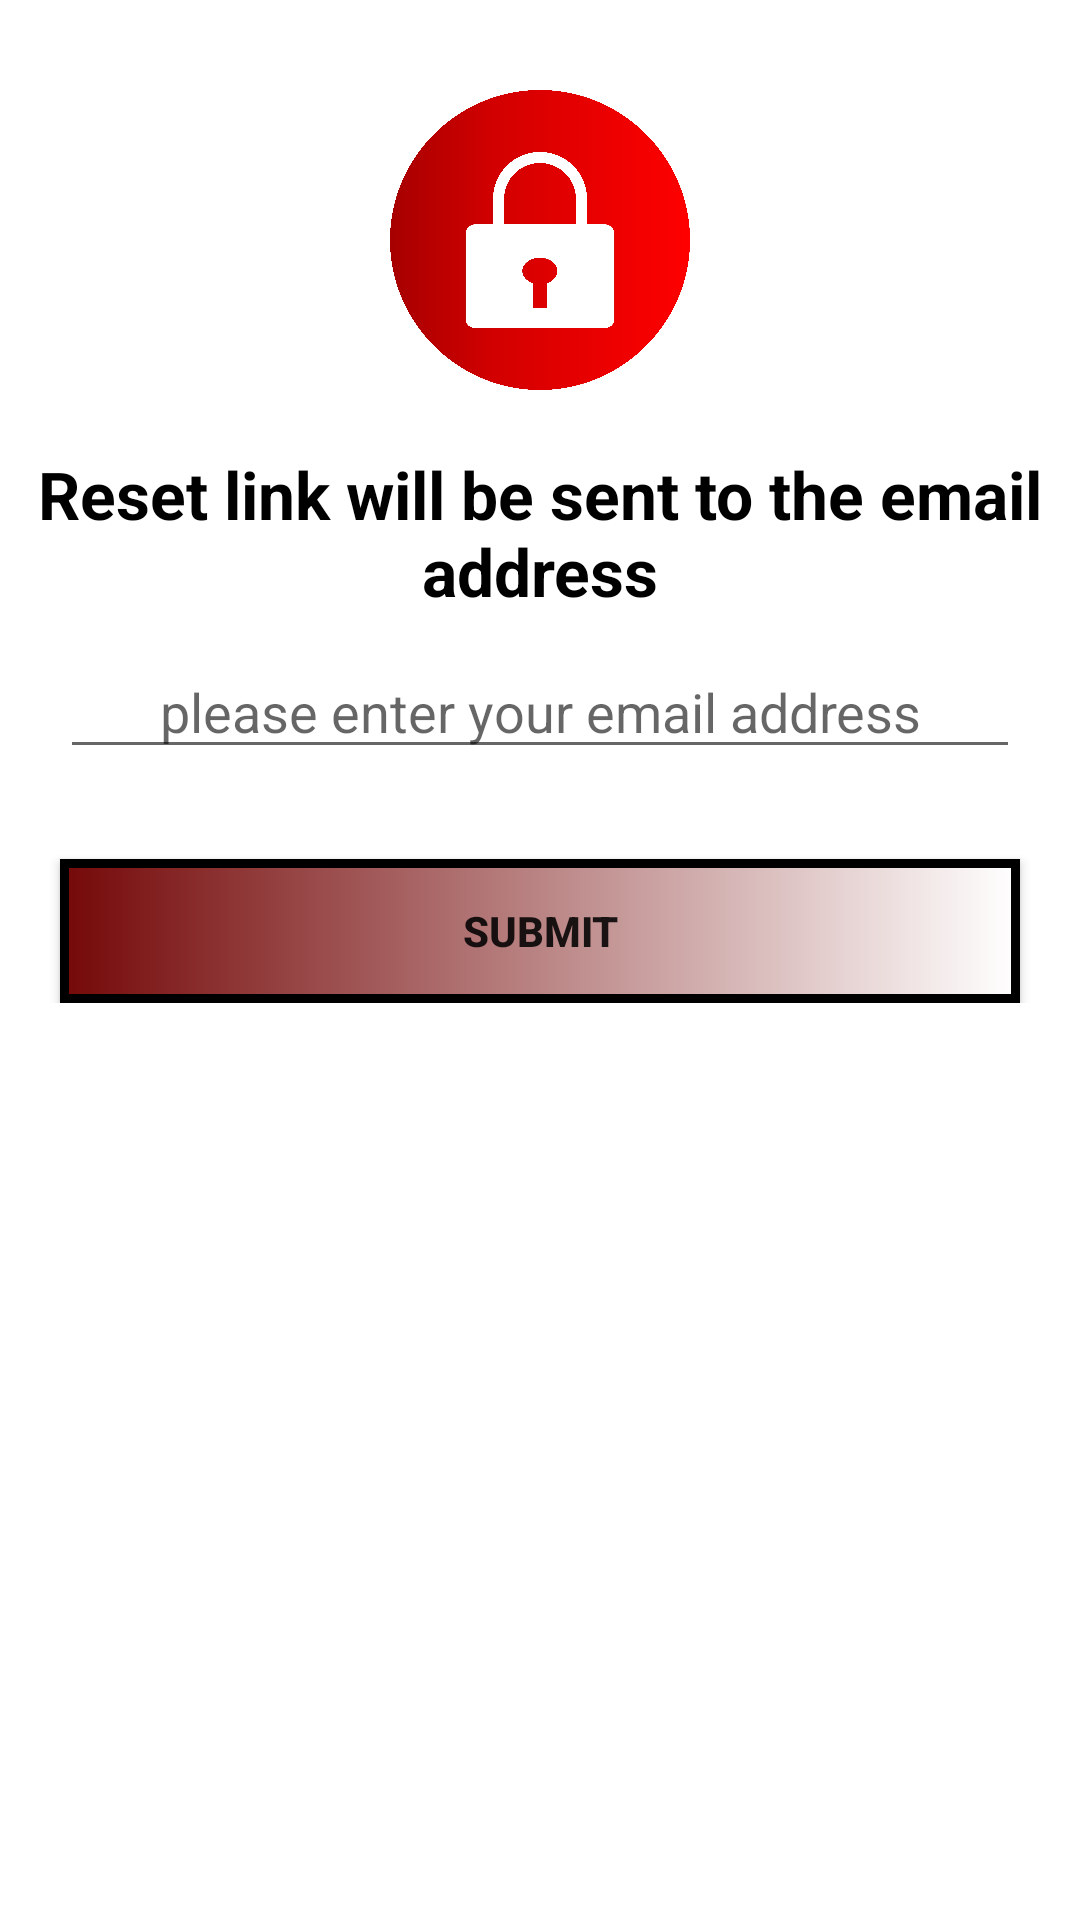

Screen size 1080px×1920px. Icon name, then its center in pixels as (x,y):
reset password: (540,240)
